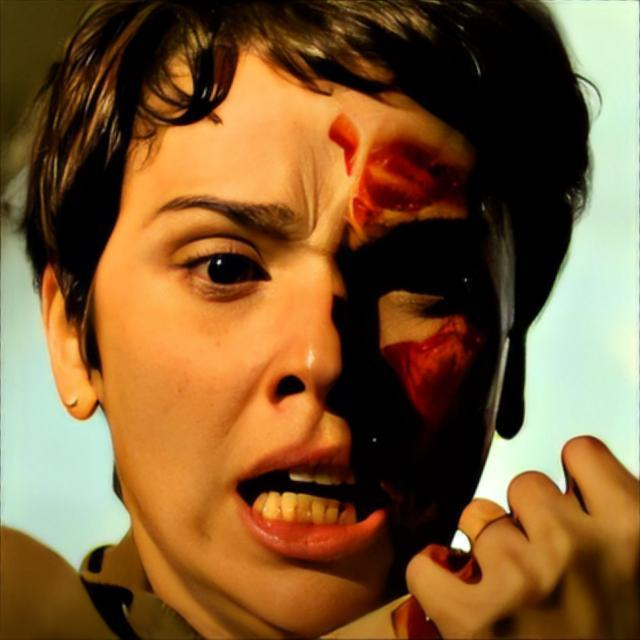fear: (92, 22, 516, 636)
